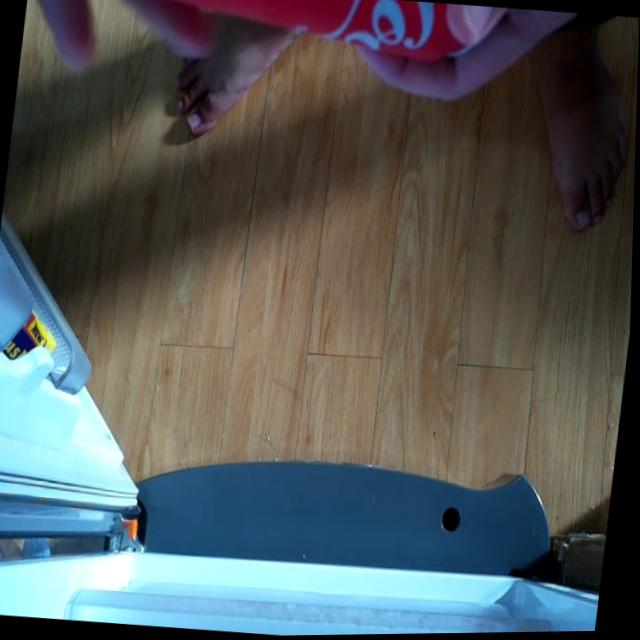coke: (89, 0, 515, 70)
